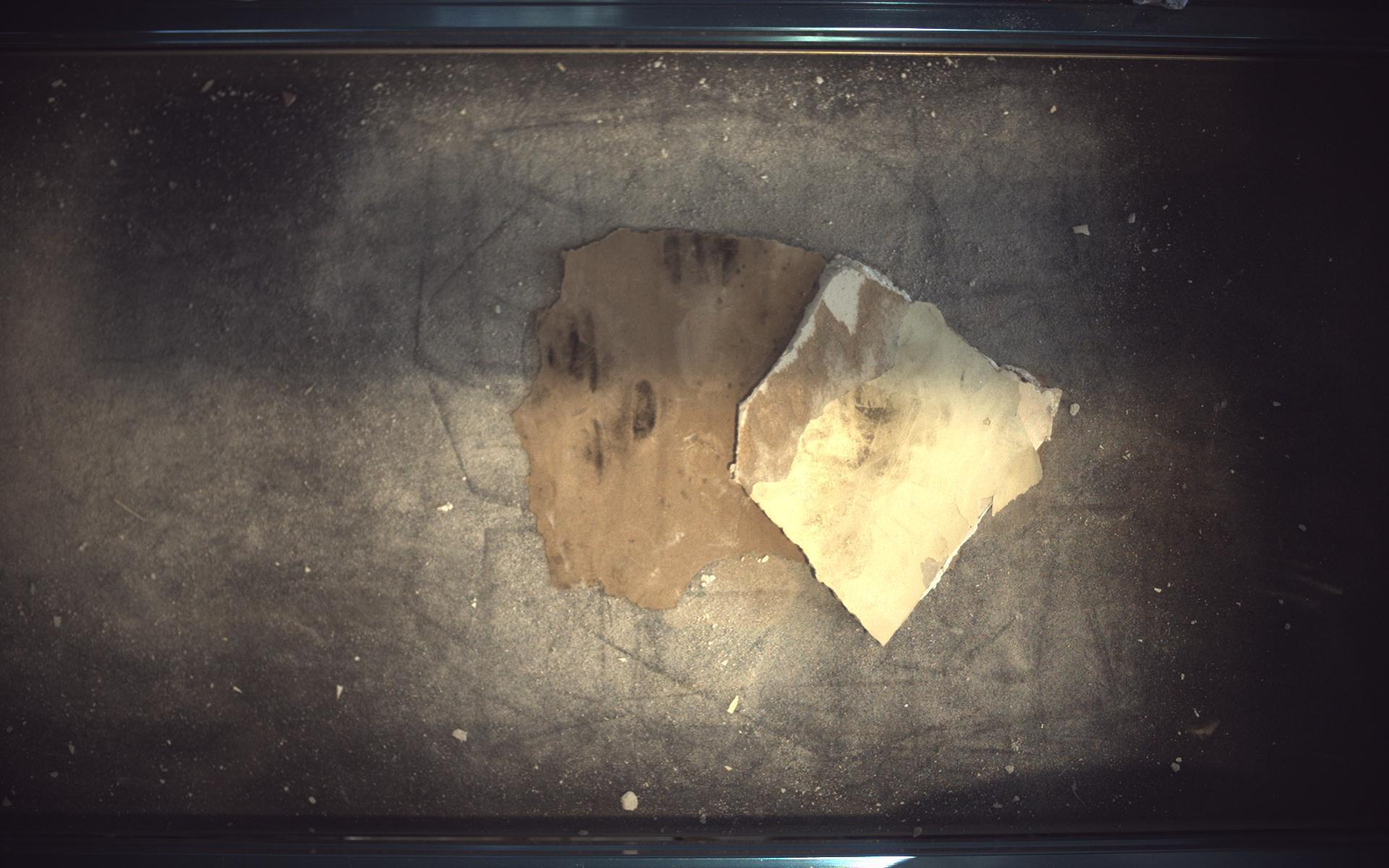gypsum_board: (514, 229, 1063, 644)
